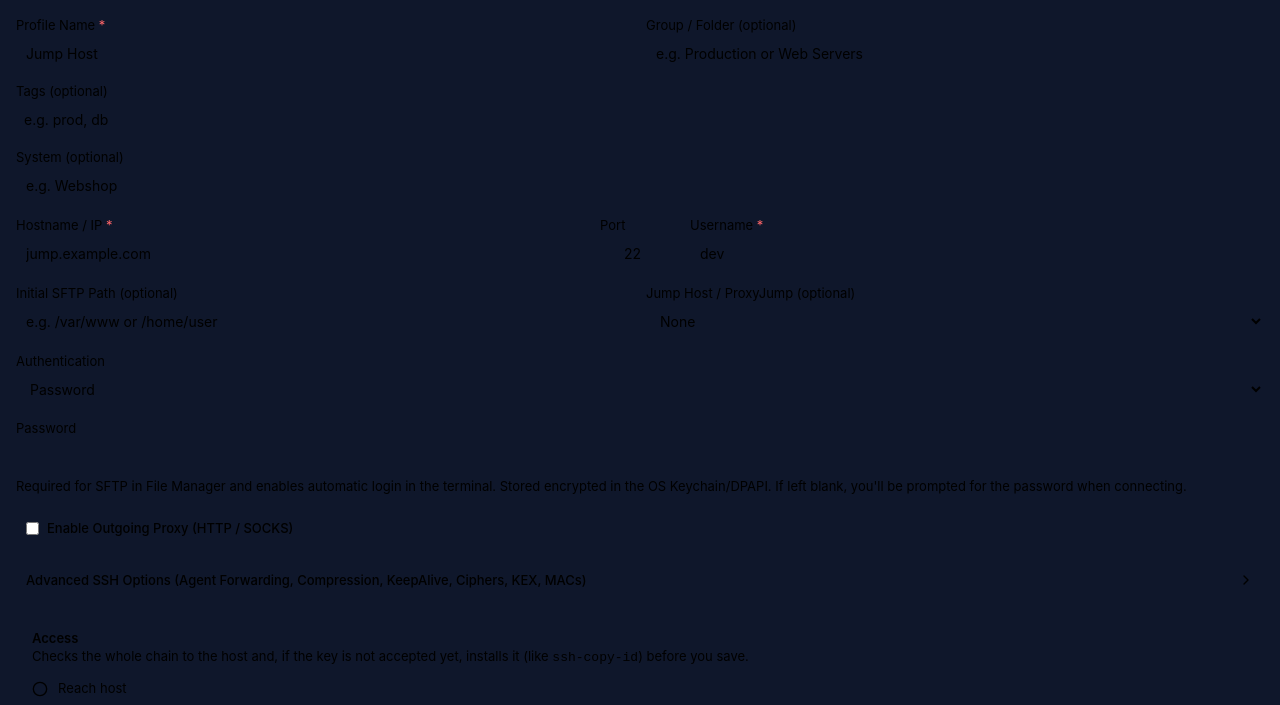
Test: SSHProfileForm › initializes Forward SSH Agent checkbox as checked if forwardAgent is true in initial config
The width and height of the screenshot is (1280, 705).
Note: Expand Advanced Options
Click the button "Advanced SSH Options" at (306, 580), box [16,561,1264,599]
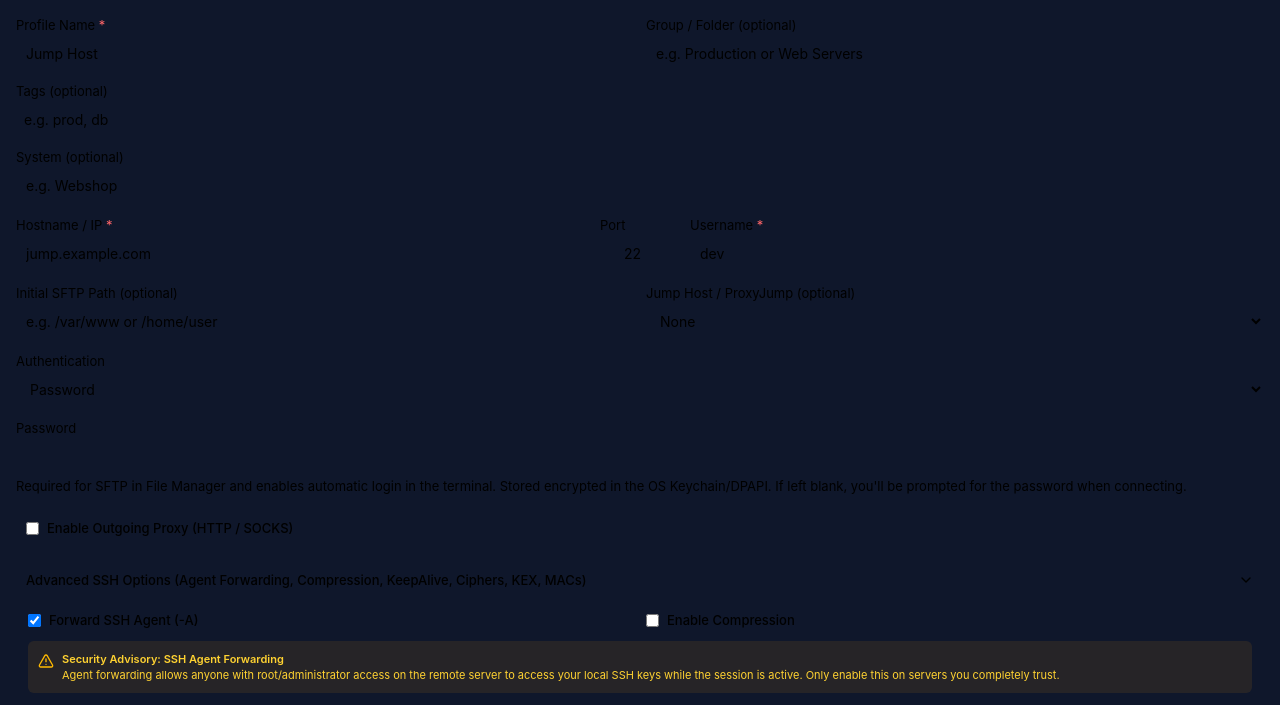
Expected: the checkbox labelled "Forward SSH Agent (-A)" is checked, [28,614,41,626]
